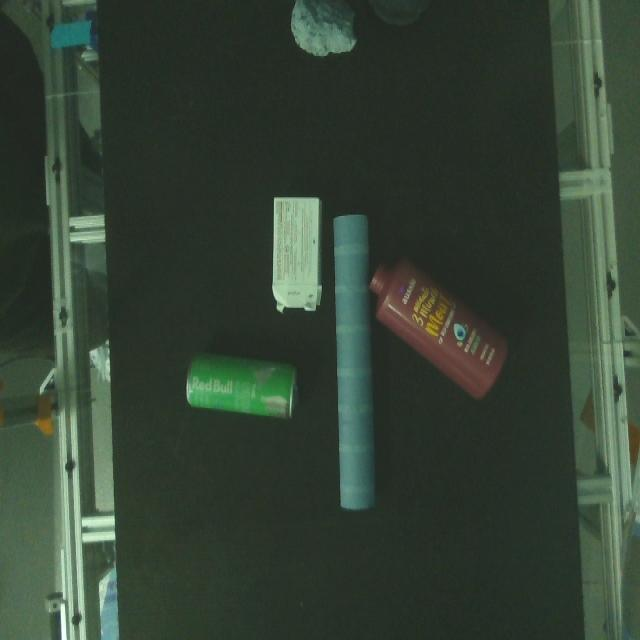non-paper: (368, 264, 522, 416), (182, 351, 308, 427), (282, 0, 360, 60), (366, 0, 435, 33)
paper: (327, 218, 384, 514), (270, 194, 327, 314)
